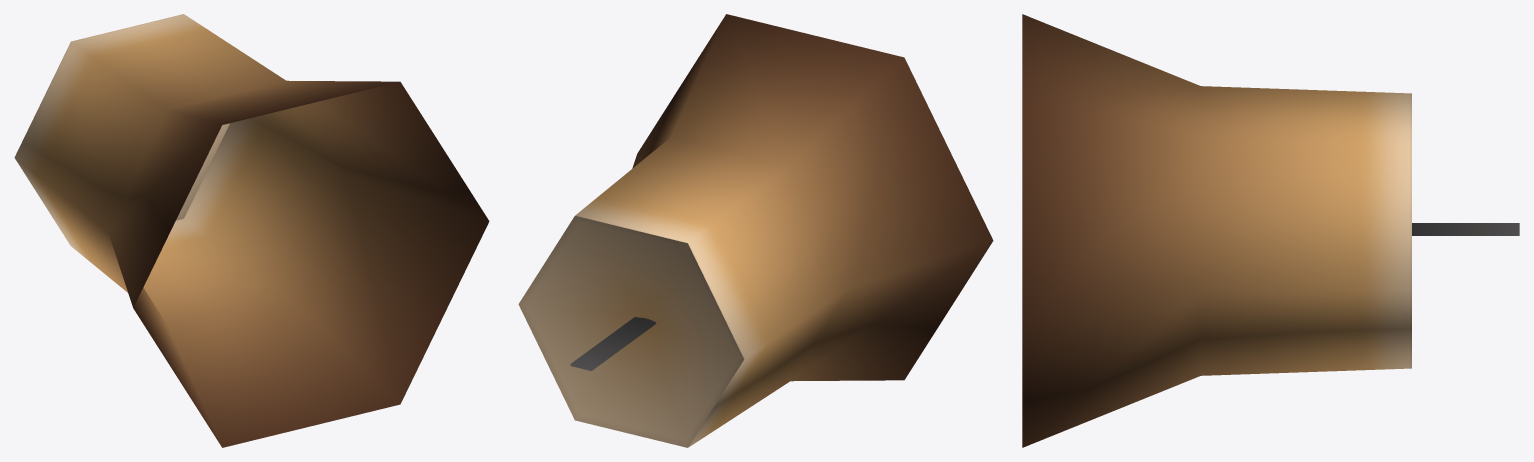
The model's file is Candle_B.fbx.
3 views of the same model, side by side, from view 1: azimuth 30°, elevation 25°; view 2: azimuth 150°, elevation 25°; view 3: azimuth 270°, elevation 25° (orthographic). The views are drawn at different scales.
Visible parts, largest first — view 1: Candle_B; view 2: Candle_B; view 3: Candle_B.
Boxes of the visible parts, bbox=[...] form: Candle_B: bbox=[14, 14, 489, 447]; Candle_B: bbox=[518, 14, 993, 447]; Candle_B: bbox=[1022, 14, 1519, 447].
Bounding box in the file's own units: 0.2186 × 0.1893 × 0.2495.
